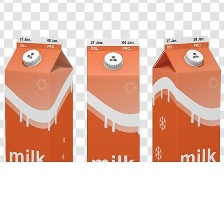carton: (148, 32, 222, 163), (3, 34, 76, 164), (81, 35, 144, 164)
